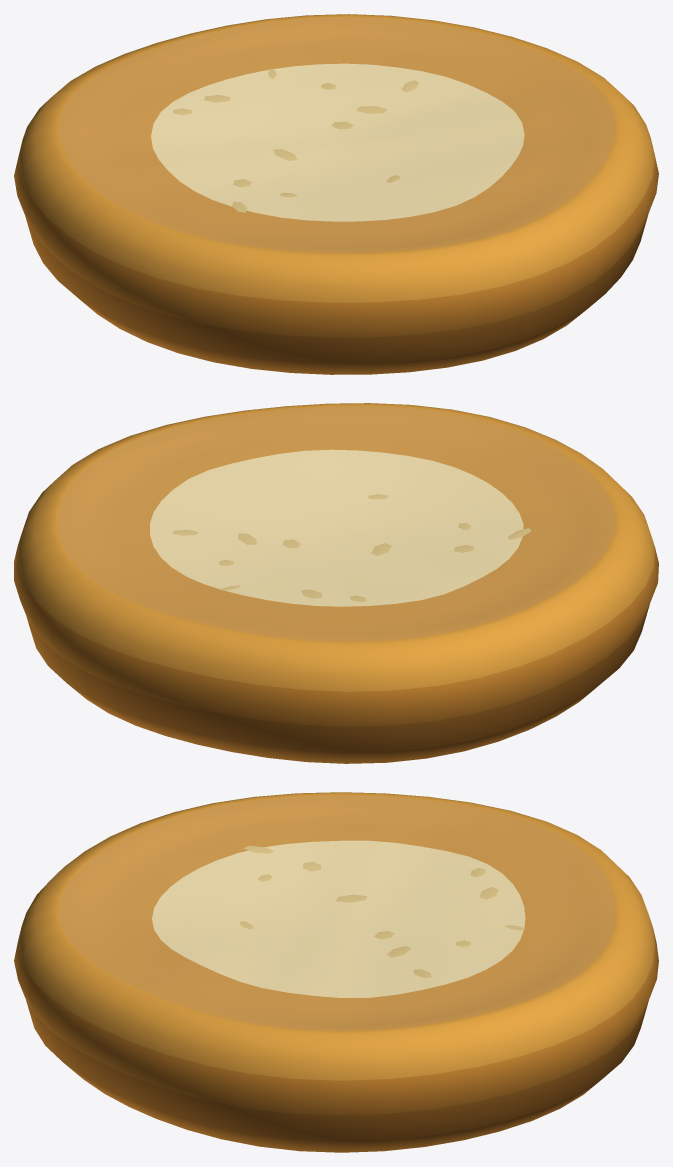
The model's file is bun_bottom.glb.
3 views of the same model, one above another, from view 1: azimuth 30°, elevation 25°; view 2: azimuth 150°, elevation 25°; view 3: azimuth 270°, elevation 25° (orthographic).
Visible parts, largest first — view 1: BunBottom; view 2: BunBottom; view 3: BunBottom.
Boxes of the visible parts, x1,y1,x2,y2 form: BunBottom: (14,14,658,374); BunBottom: (14,403,658,763); BunBottom: (14,792,658,1152).
Bounding box in the file's own units: 3.2 × 0.7 × 3.2.
